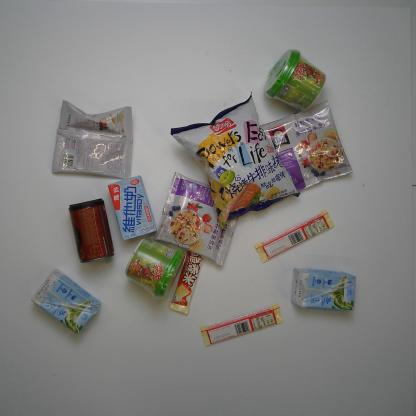Canned Food: (68, 198, 116, 263)
Chocolate: (254, 209, 336, 263), (199, 302, 285, 348), (169, 250, 204, 315)
Instant Drink: (260, 98, 355, 192), (152, 171, 240, 266), (50, 99, 134, 179), (263, 47, 328, 112), (124, 236, 186, 301)
Milk: (29, 268, 102, 335), (107, 173, 158, 242), (290, 266, 356, 311)
Puffed Food: (169, 90, 302, 231)
